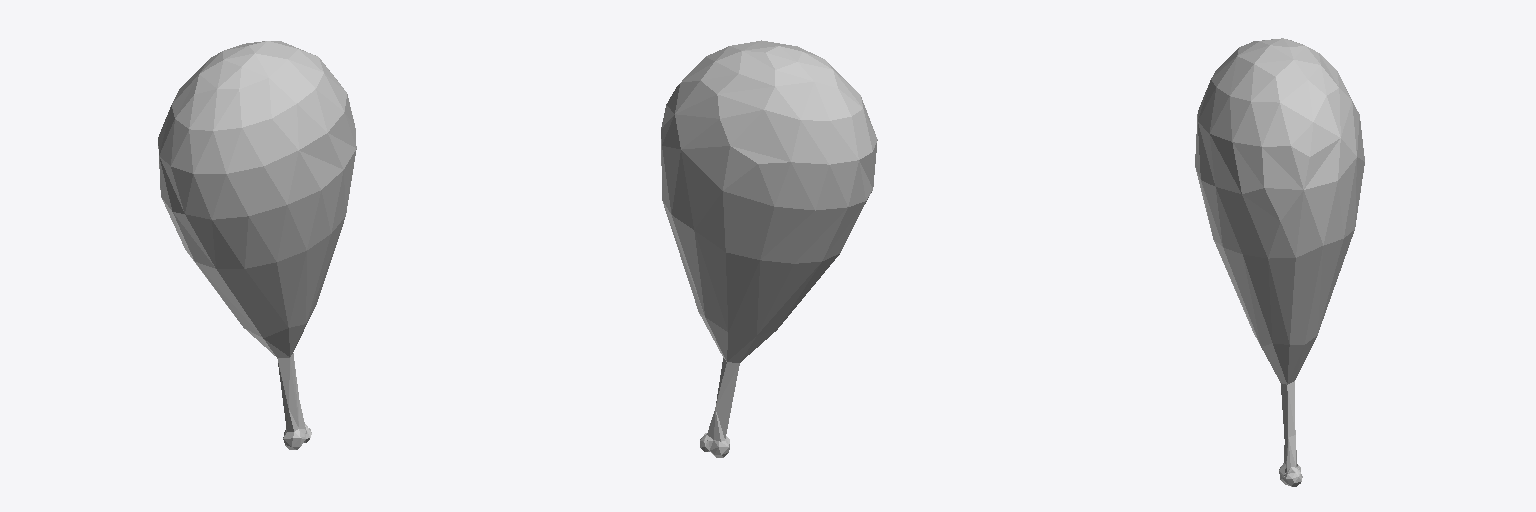
The model's file is poulet.obj.
3 renders of one model, left to right at view 1: azimuth 30°, elevation 25°; view 2: azimuth 150°, elevation 25°; view 3: azimuth 270°, elevation 25°, orthographic.
Visible parts, largest first — view 1: Sphere; view 2: Sphere; view 3: Sphere.
Boxes of the visible parts, <box> form: Sphere: <box>158,41,356,449</box>; Sphere: <box>661,40,877,457</box>; Sphere: <box>1195,38,1364,486</box>.
Bounding box in the file's own units: 0.3461 × 0.723 × 0.2683.